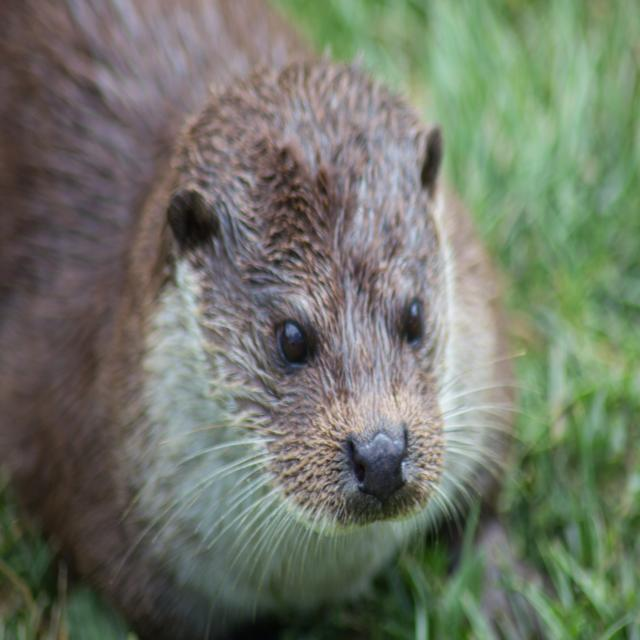otter: (167, 61, 451, 531)
